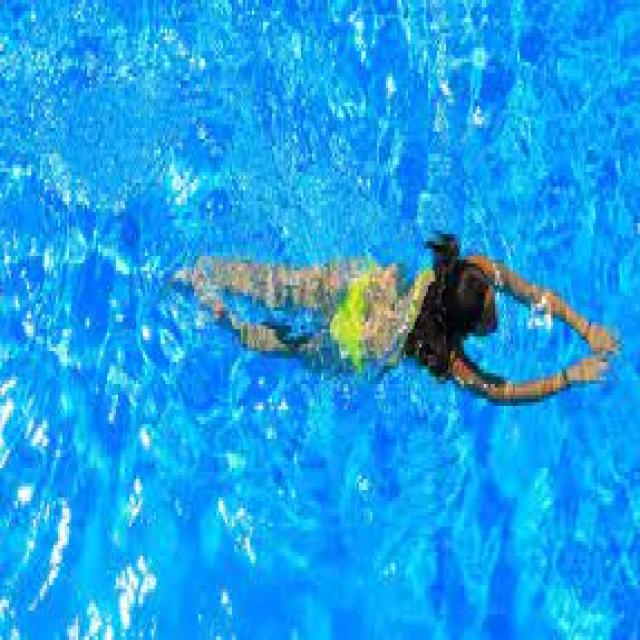Swimming: (167, 233, 619, 406)
